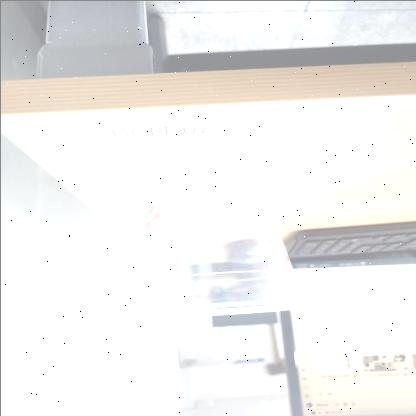Others: (118, 150, 322, 320)
